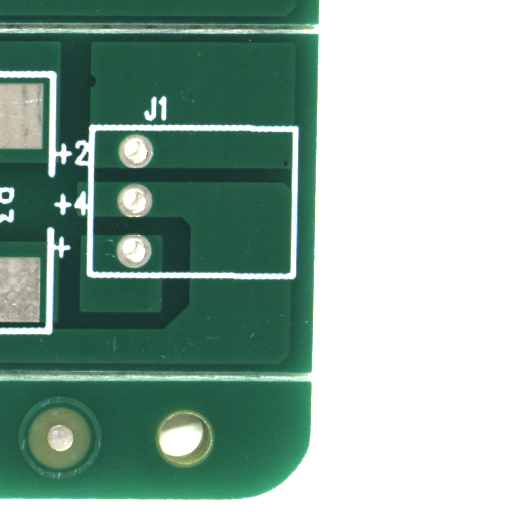Mouse_bite: (93, 81, 101, 96)
